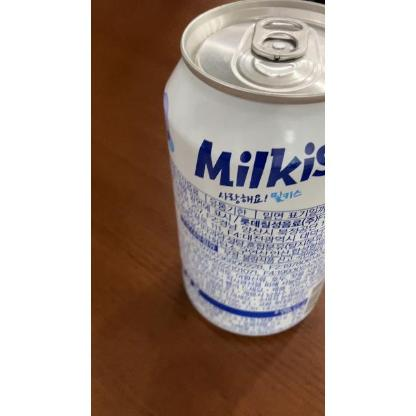Can: (161, 0, 325, 341)
